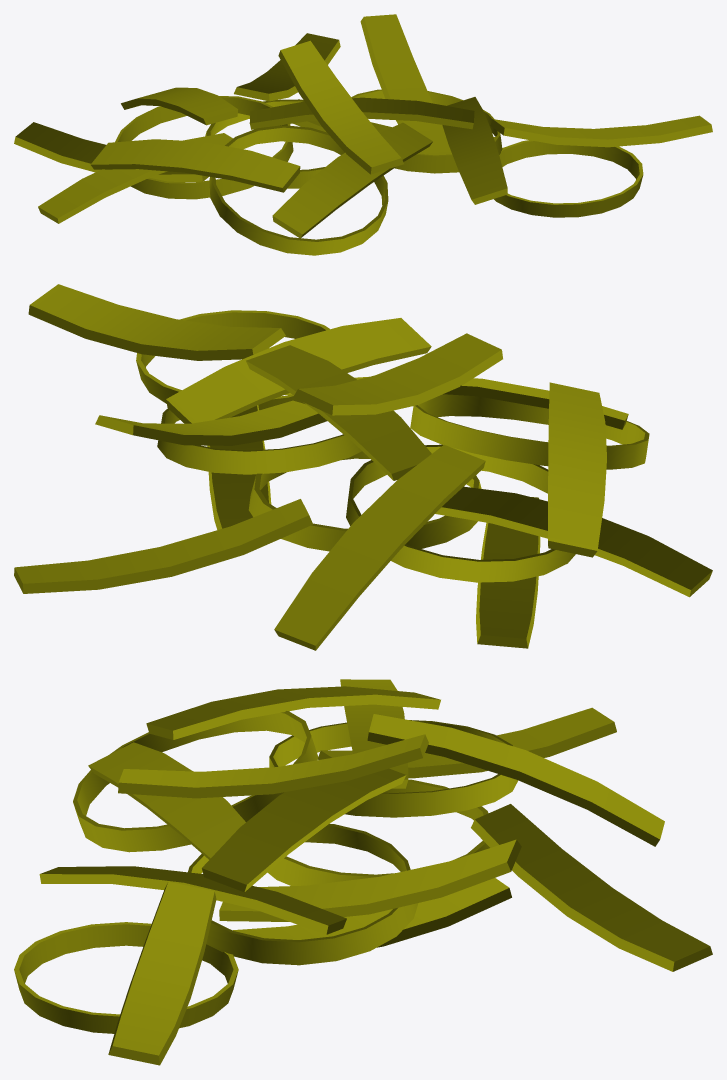
Rendered from WoodenBarrel_Broken_v2.fbx.
3 views of the same model, one above another, from view 1: azimuth 30°, elevation 25°; view 2: azimuth 150°, elevation 25°; view 3: azimuth 270°, elevation 25° (orthographic). The views are drawn at different scales.
Visible parts, largest first — view 1: WoodenBarrel_Broken_v2_LOD0; view 2: WoodenBarrel_Broken_v2_LOD0; view 3: WoodenBarrel_Broken_v2_LOD0.
Boxes of the visible parts, left/top/right/bottom form: WoodenBarrel_Broken_v2_LOD0: left=14, top=14, right=712, bottom=255; WoodenBarrel_Broken_v2_LOD0: left=14, top=284, right=712, bottom=650; WoodenBarrel_Broken_v2_LOD0: left=14, top=679, right=712, bottom=1065.
Size of what is drawn, in the model's own units: 35.77 by 6.4 by 26.99.
